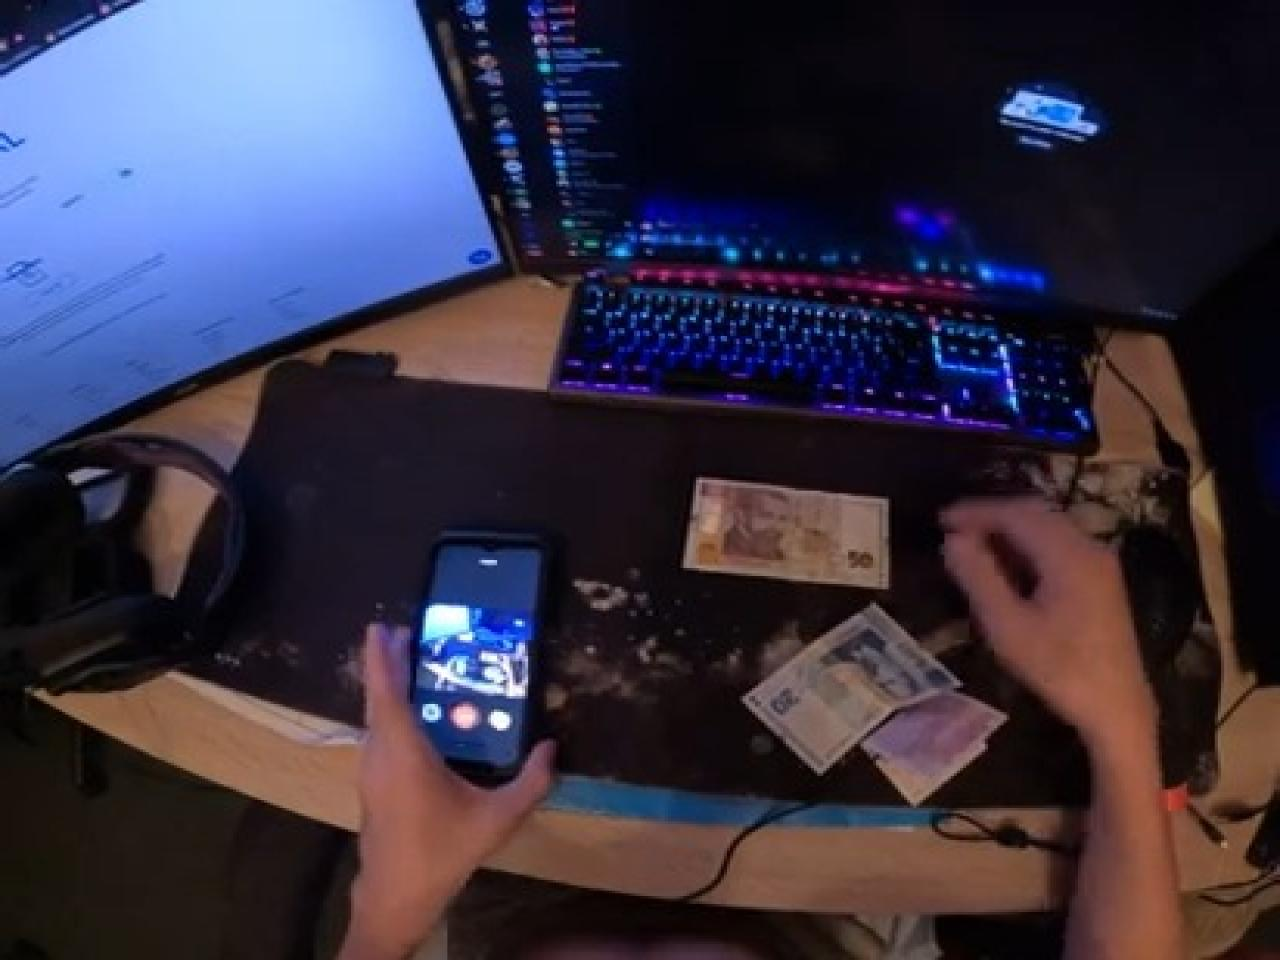20leva: (743, 603, 959, 773)
50leva: (683, 480, 886, 589)
5leva: (860, 691, 1008, 804)
